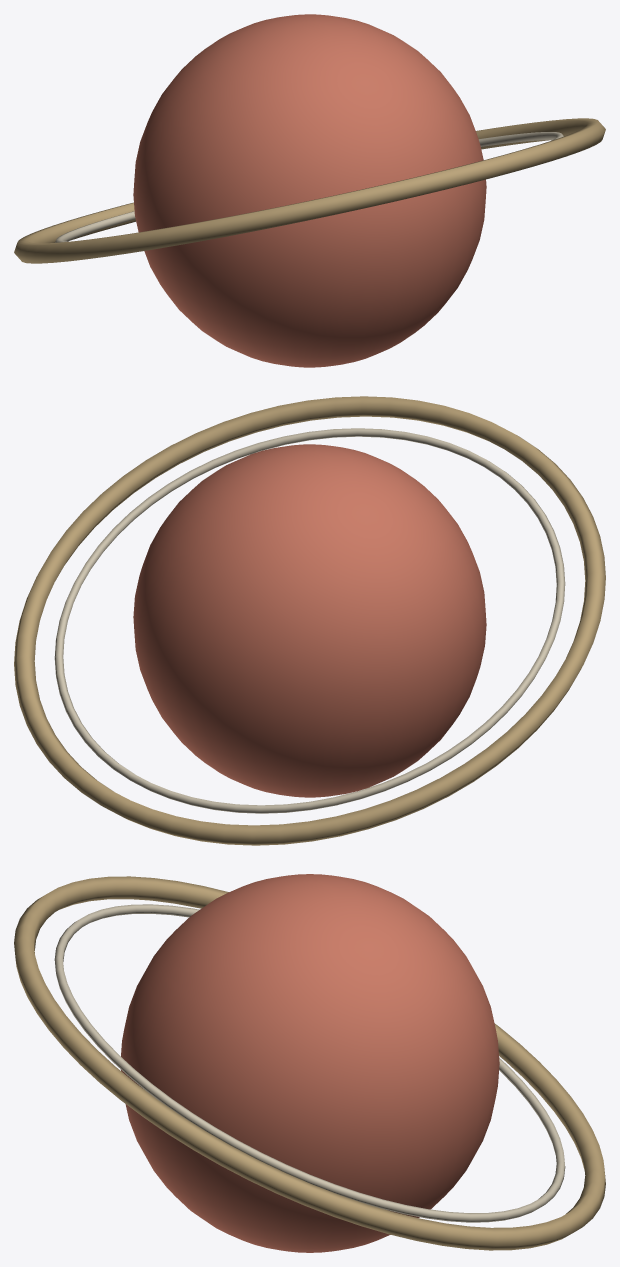
The model's file is planet-ring.glb.
3 renders of one model, top to bottom at view 1: azimuth 30°, elevation 25°; view 2: azimuth 150°, elevation 25°; view 3: azimuth 270°, elevation 25°, orthographic. The views are drawn at different scales.
Parts seen in each view (by area): view 1: shell; view 2: shell; view 3: shell.
Boxes of the visible parts, left/top/right/bottom form: shell: left=14, top=14, right=605, bottom=367; shell: left=14, top=396, right=605, bottom=845; shell: left=14, top=874, right=605, bottom=1252.
Size of the model in its own units: 3.42 by 2 by 3.12.
